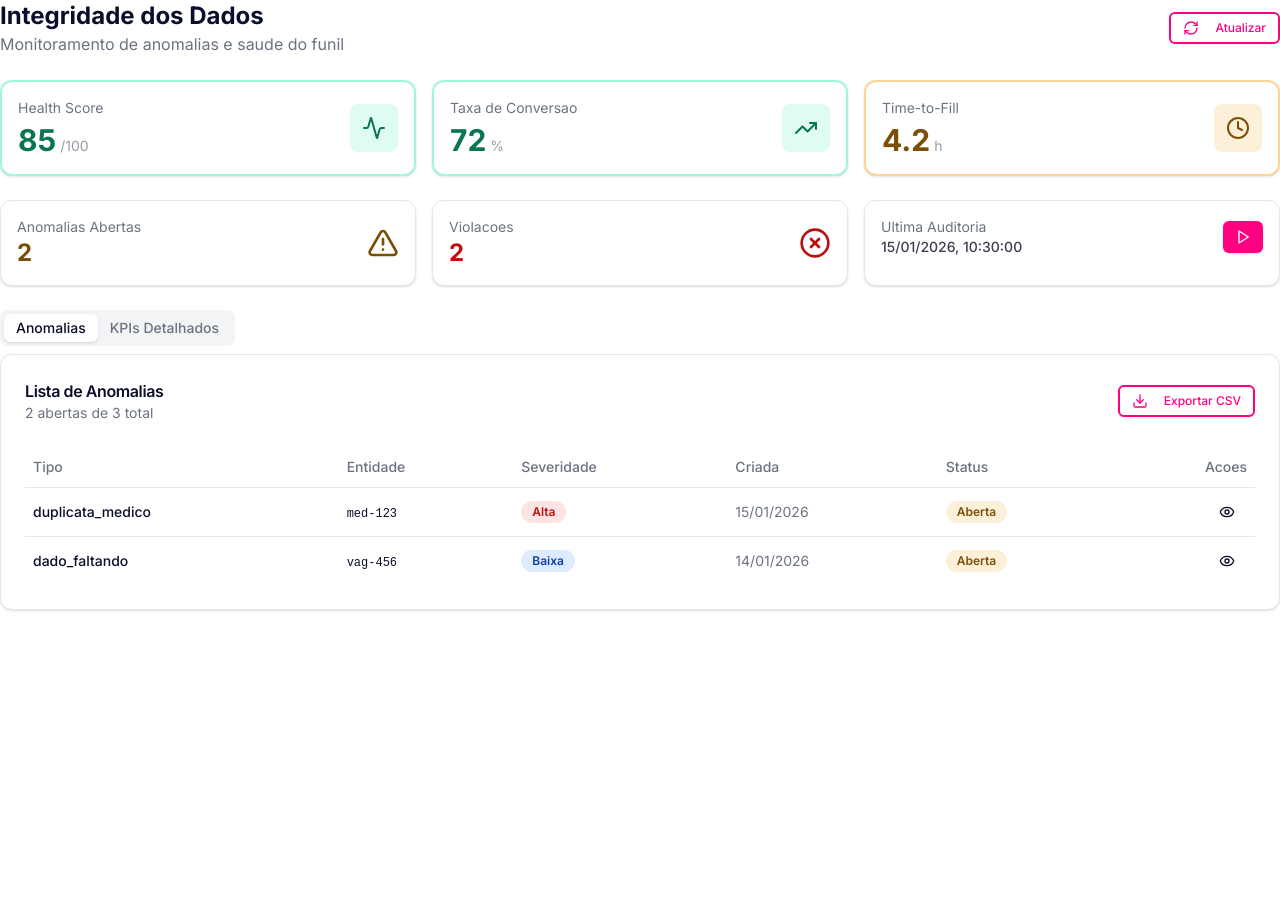
it: IntegridadePageContent › Modal Integration › closes modal when close button clicked
Click the button with class "lucide-eye": (1227, 512) 1207,496 -> 1247,528
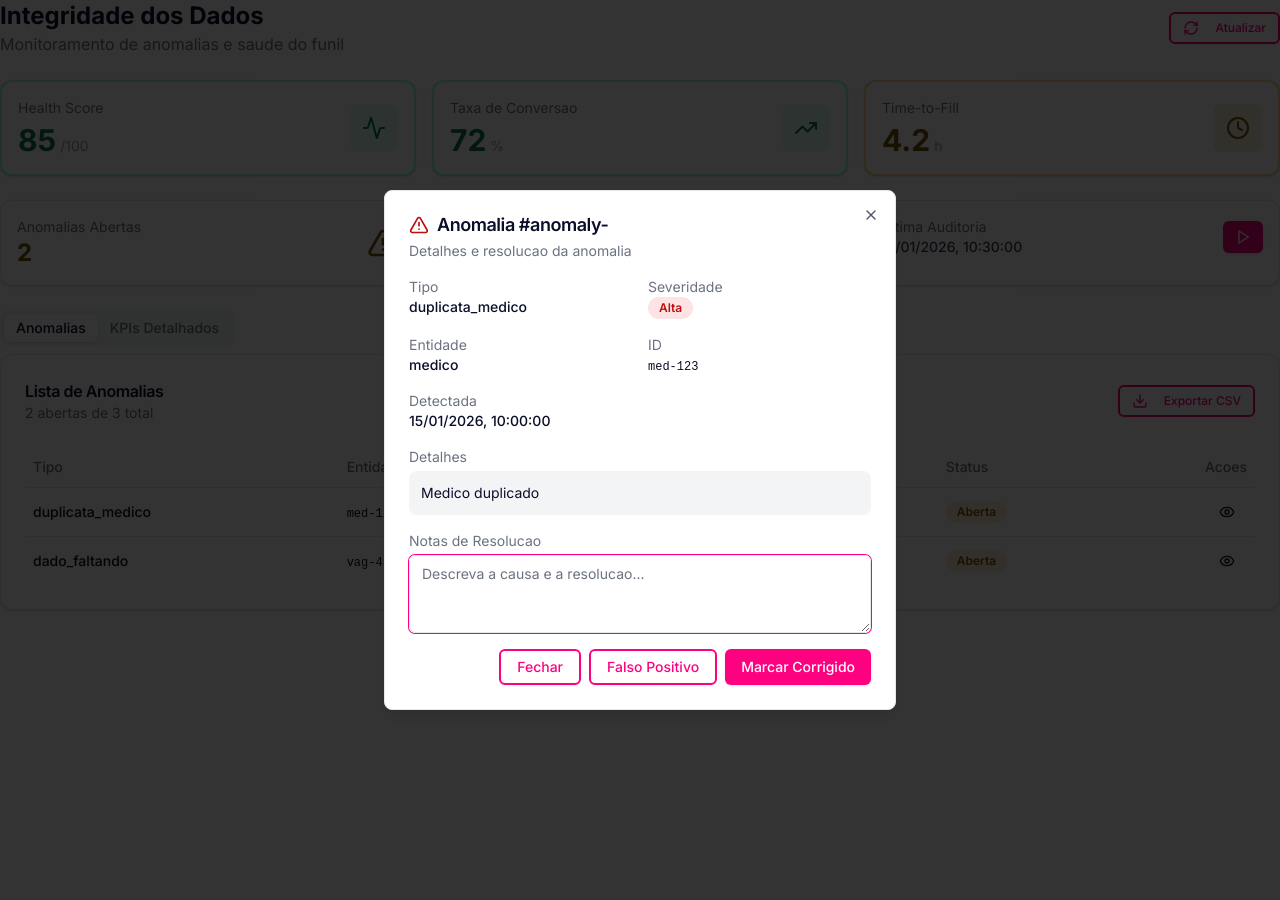
Check: the heading "Anomalia #anomaly-" is shown, box 409,214 -> 608,235
# Close modal
Click the button "Fechar": (540, 667) 499,649 -> 581,685
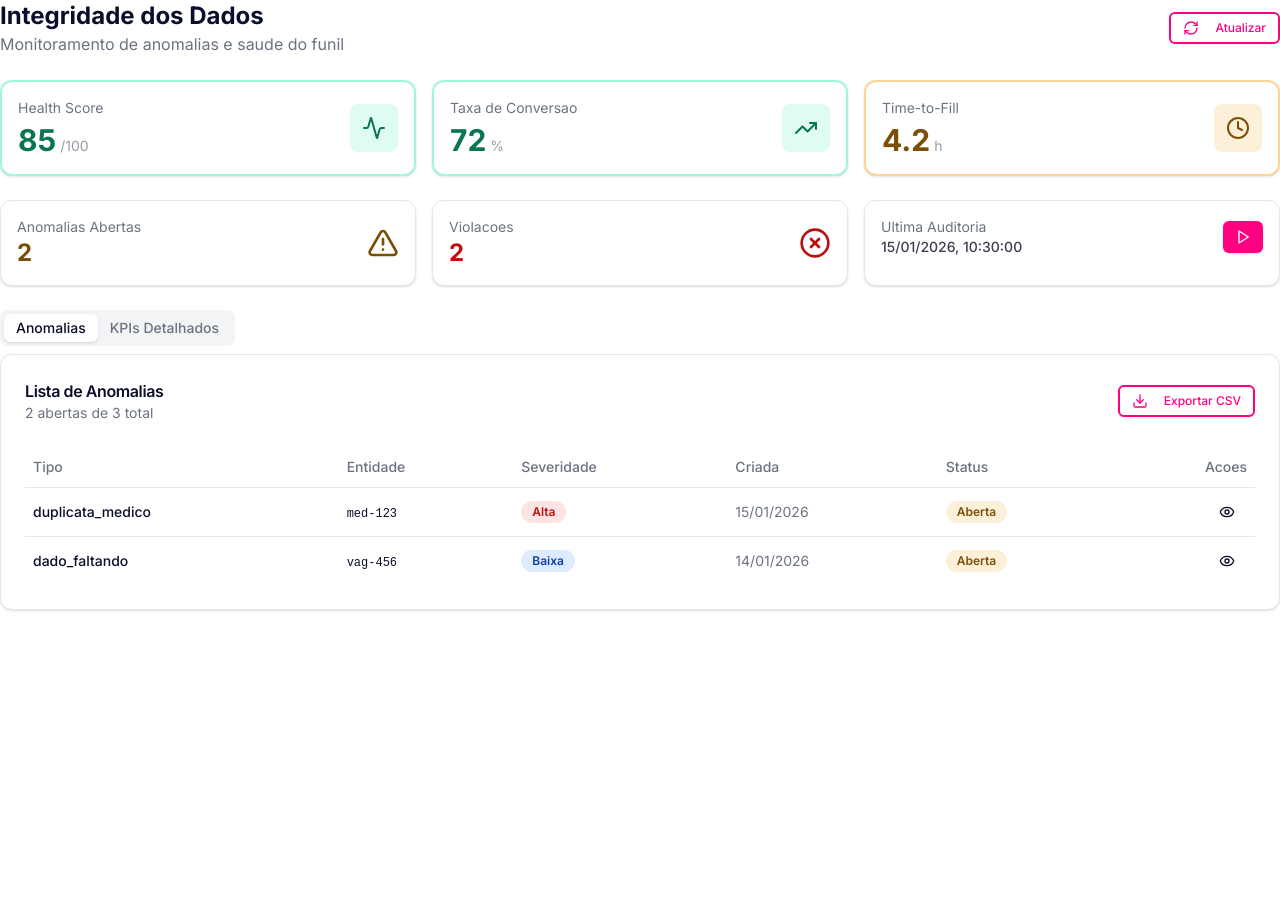
Check: the heading "Anomalia #anomaly" is gone
